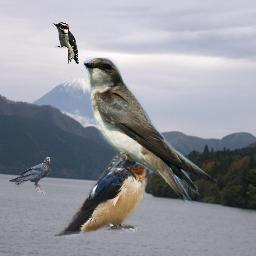Crow: (9, 157, 51, 195)
Swallow: (83, 57, 217, 204), (54, 150, 154, 238)
Woodpecker: (52, 22, 79, 64)
